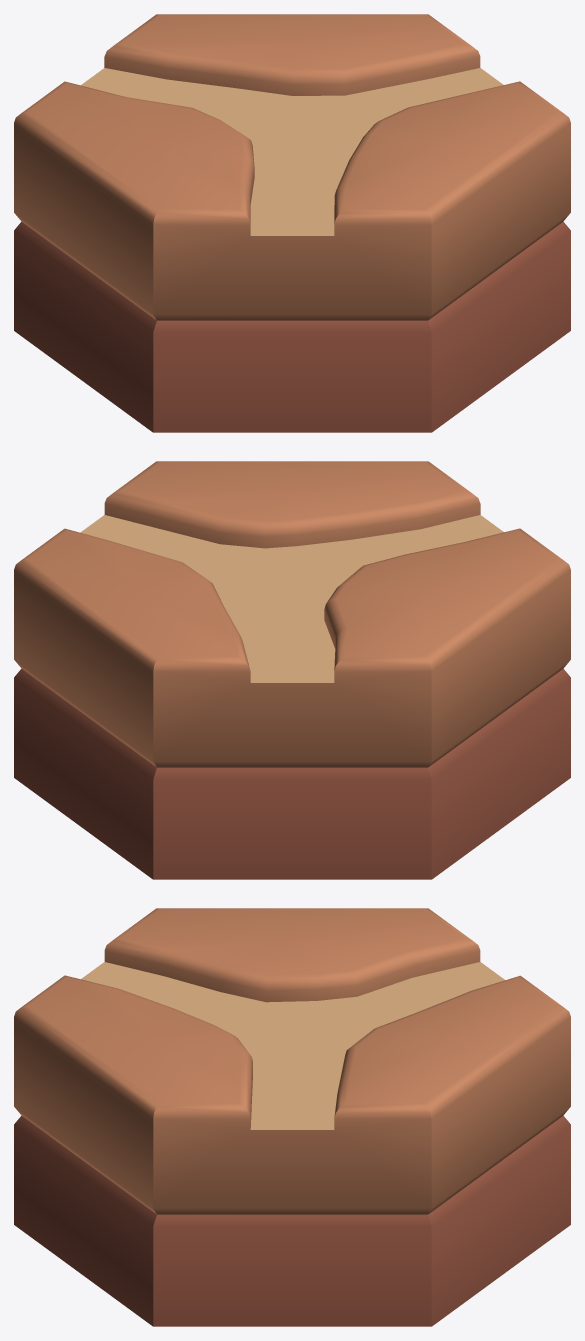
Rendered from kaykit-hex-rock-roadg-detail.glb.
The picture shows the model from 3 angles, top to bottom: view 1: azimuth 30°, elevation 25°; view 2: azimuth 150°, elevation 25°; view 3: azimuth 270°, elevation 25°; orthographic projection.
Visible parts, largest first — view 1: hex_rock_roadG_detail; view 2: hex_rock_roadG_detail; view 3: hex_rock_roadG_detail.
Part boxes in pixels (x1,y1,x2,y2): hex_rock_roadG_detail: (14,14,570,432); hex_rock_roadG_detail: (14,461,570,879); hex_rock_roadG_detail: (14,908,570,1326).
Bounding box in the file's own units: 2 × 1 × 2.31.
